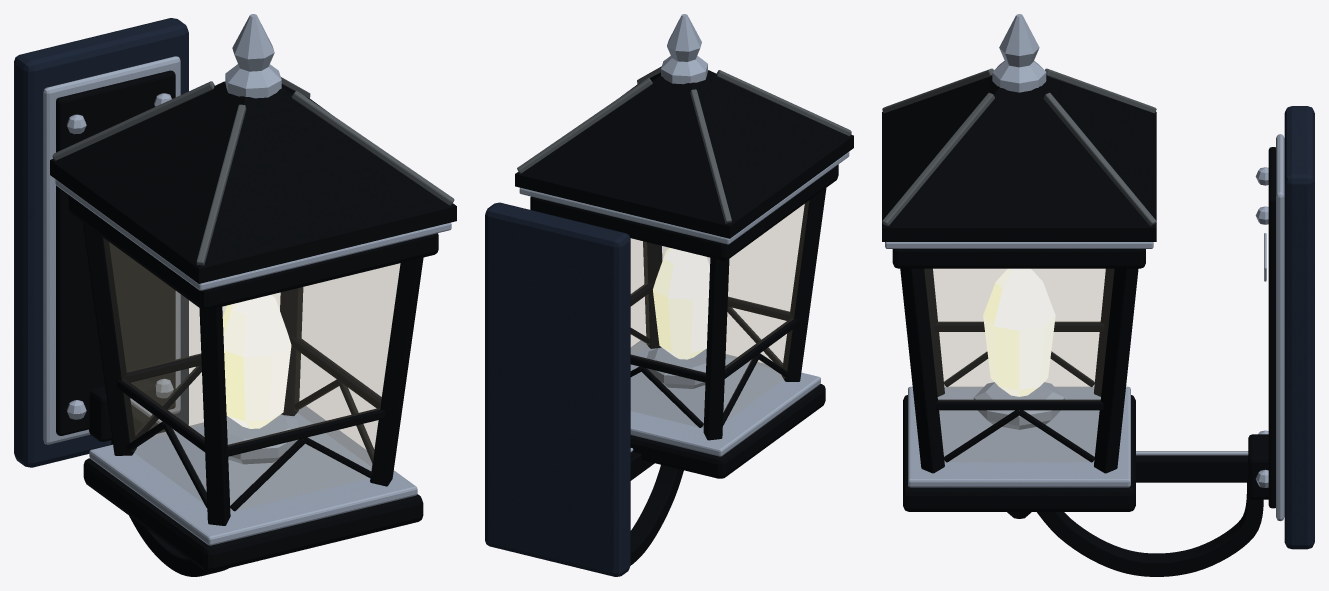
The model's file is P1_Lanterne_Murale.fbx.
3 renders of one model, left to right at view 1: azimuth 30°, elevation 25°; view 2: azimuth 150°, elevation 25°; view 3: azimuth 270°, elevation 25°, orthographic. The views are drawn at different scales.
Parts seen in each view (by area): view 1: P1_Lanterne_Murale_Structure, P1_Lanterne_Murale_Vitres, P1_Lanterne_Murale_Coeur; view 2: P1_Lanterne_Murale_Structure, P1_Lanterne_Murale_Vitres, P1_Lanterne_Murale_Coeur; view 3: P1_Lanterne_Murale_Structure, P1_Lanterne_Murale_Vitres, P1_Lanterne_Murale_Coeur.
Boxes of the visible parts, x1,y1,x2,y2 form: P1_Lanterne_Murale_Structure: (14,14,456,576); P1_Lanterne_Murale_Vitres: (104,239,400,511); P1_Lanterne_Murale_Coeur: (222,294,291,428); P1_Lanterne_Murale_Structure: (485,14,853,576); P1_Lanterne_Murale_Vitres: (631,201,808,427); P1_Lanterne_Murale_Coeur: (653,247,709,359); P1_Lanterne_Murale_Structure: (882,14,1314,576); P1_Lanterne_Murale_Vitres: (925,269,1113,461); P1_Lanterne_Murale_Coeur: (983,268,1055,396).
Bounding box in the file's own units: 1.63 × 3.64 × 2.56.
Materials: 3 (1 with a texture image).
